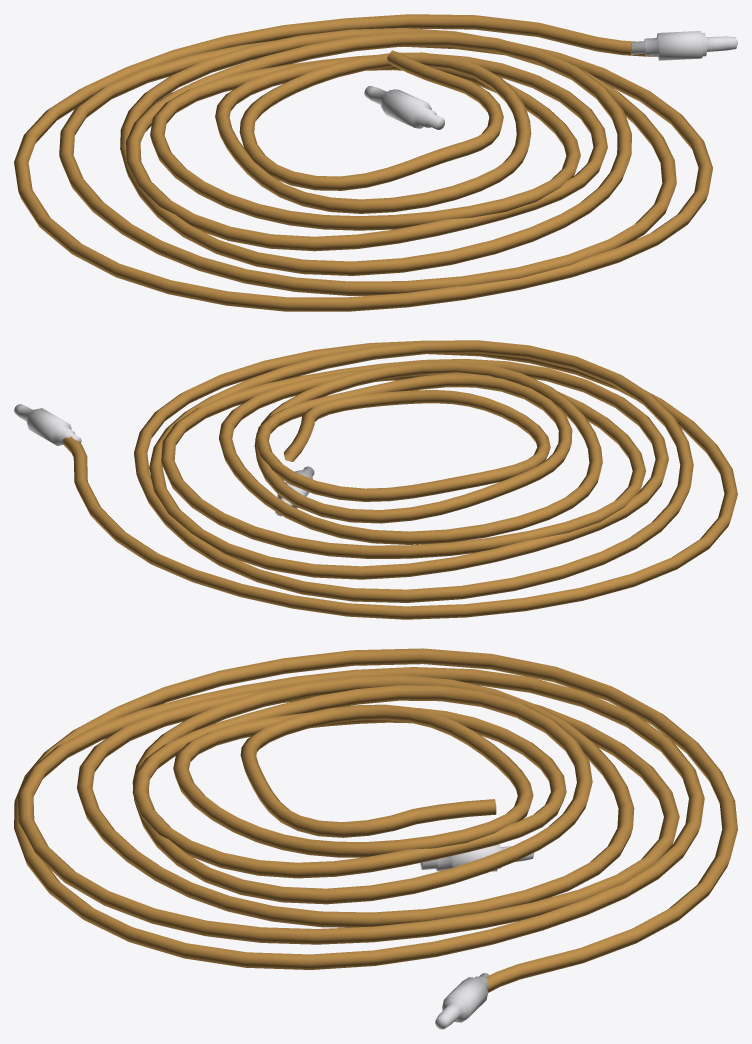
The model's file is mess-coil.glb.
The picture shows the model from 3 angles, top to bottom: view 1: azimuth 30°, elevation 25°; view 2: azimuth 150°, elevation 25°; view 3: azimuth 270°, elevation 25°; orthographic projection. The views are drawn at different scales.
Parts seen in each view (by area): view 1: mess-coil; view 2: mess-coil; view 3: mess-coil.
Boxes of the visible parts, bbox=[...] form: mess-coil: bbox=[14, 14, 737, 311]; mess-coil: bbox=[14, 340, 737, 619]; mess-coil: bbox=[14, 648, 737, 1029].
Size of the model in its own units: 0.3736 by 0.0328 by 0.3057.
